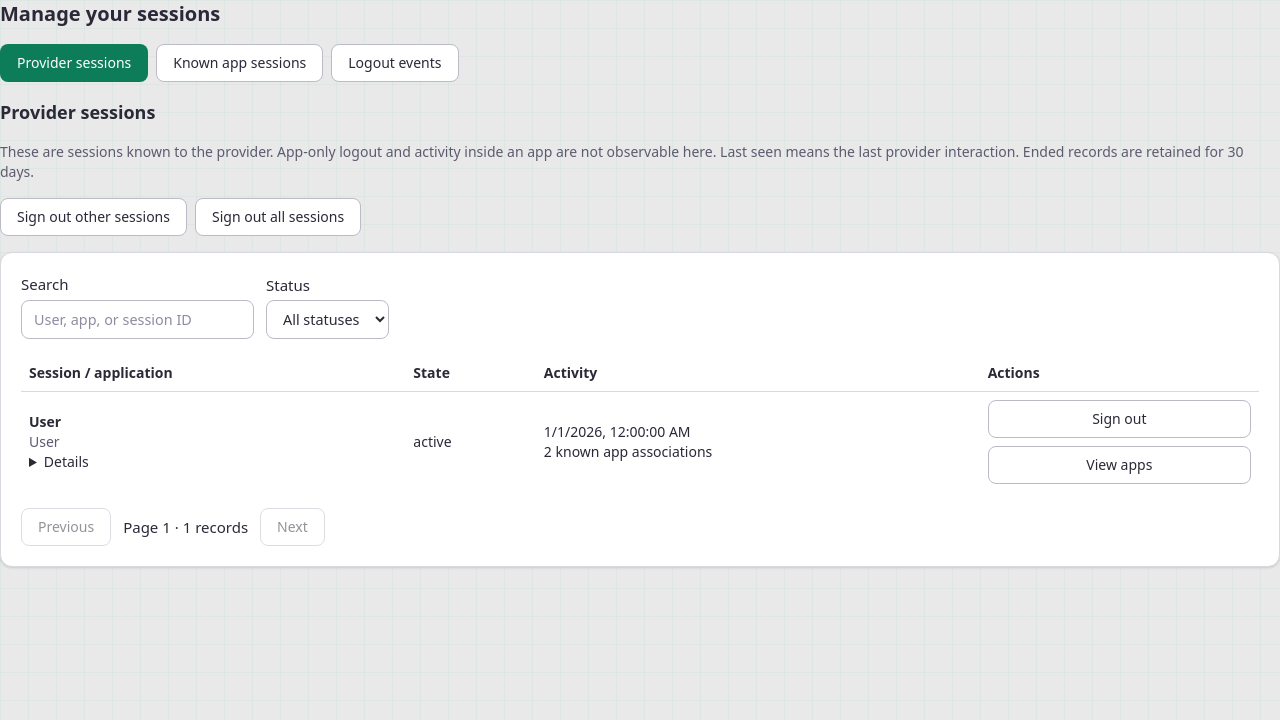
requires confirmation, reports pending delivery, and preserves other sessions
The width and height of the screenshot is (1280, 720).
Step 1. Click the button "Sign out" → click(1119, 419), box [988,400,1251,438]
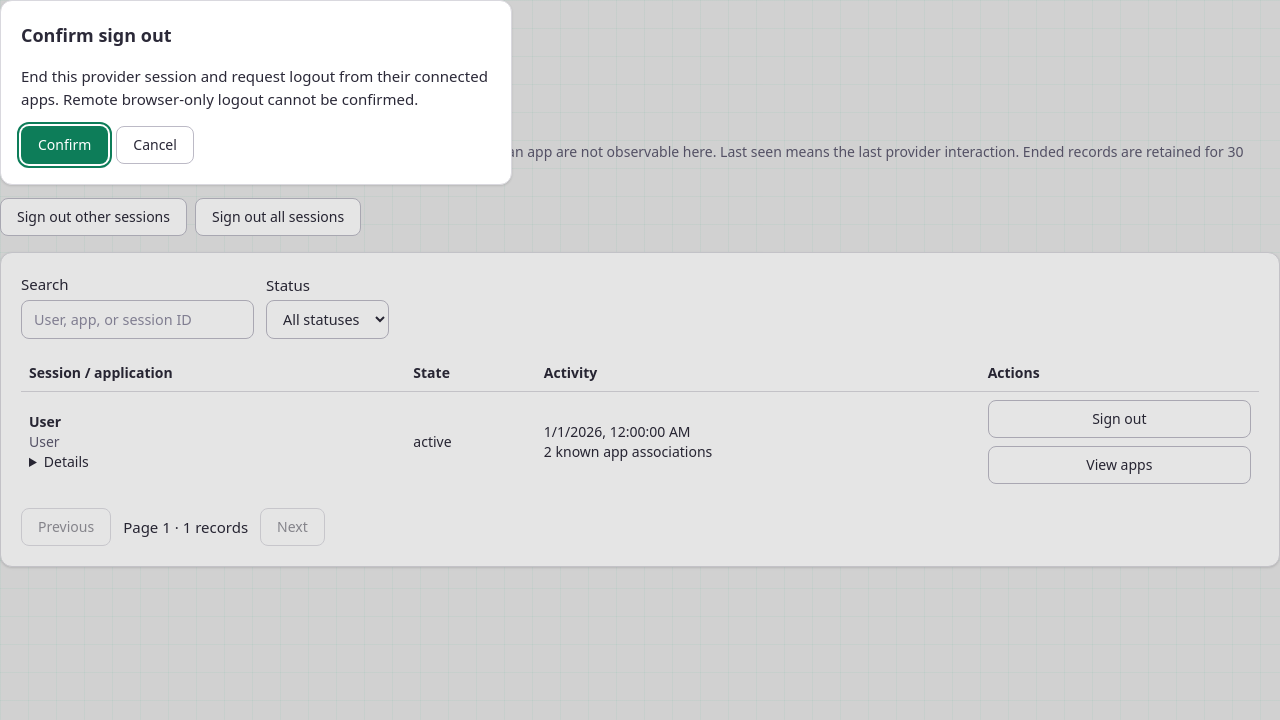
Now the dialog shows "this provider session", box [21,66,488,108]
Step 2. Click the button "Confirm" → click(65, 145), box [21,126,108,164]
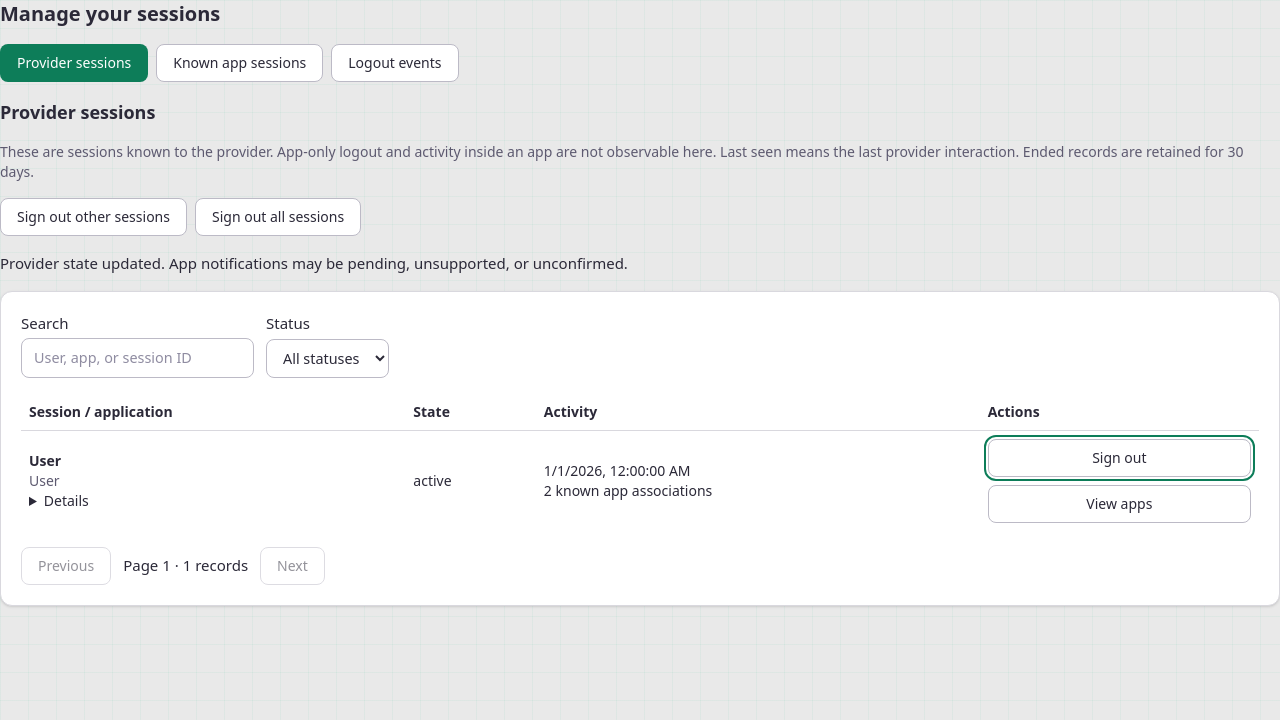
Now the message shows "notifications may be pending", box [0,253,628,273]
